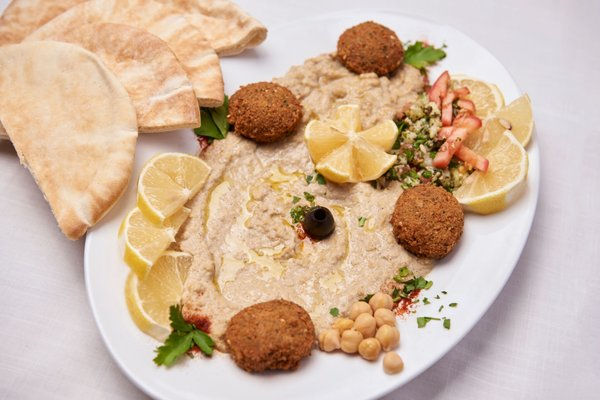taco: (119, 151, 211, 282), (451, 127, 530, 215), (304, 117, 399, 184), (135, 152, 211, 230)
